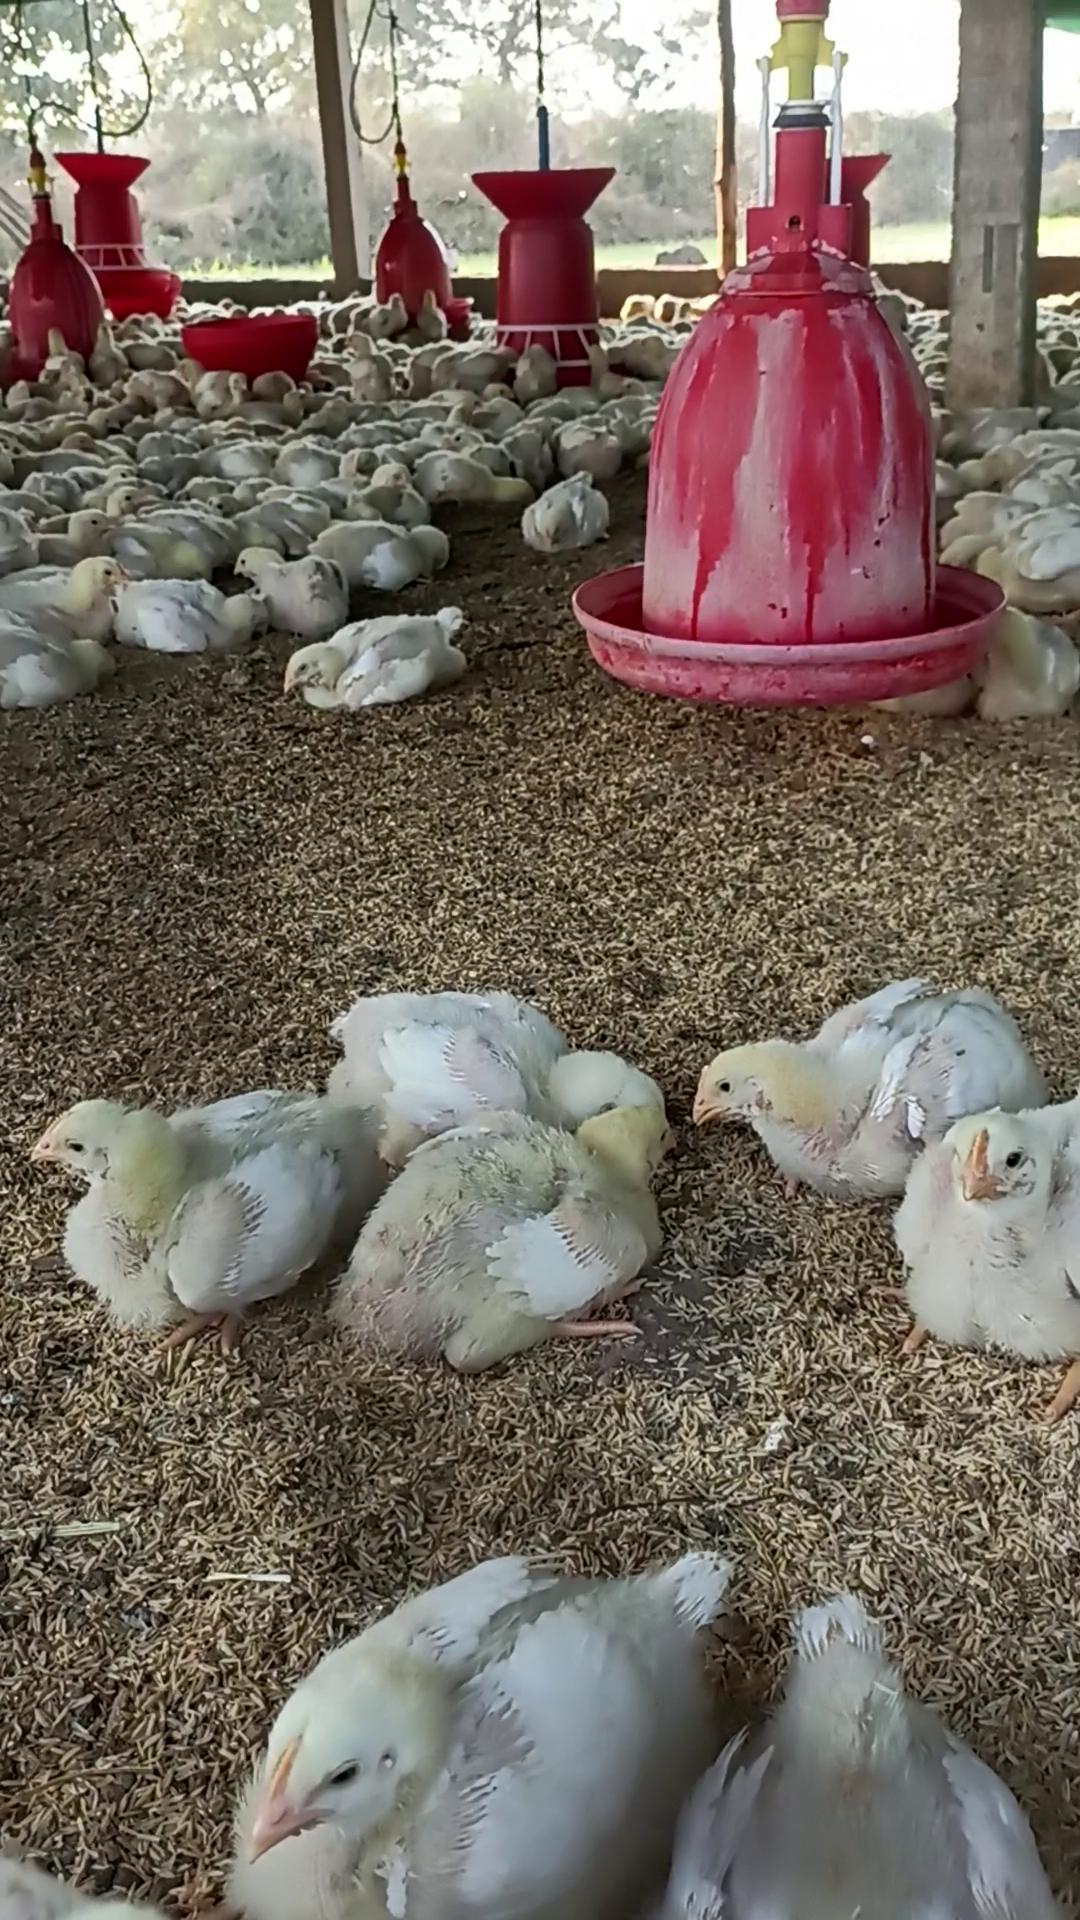Pollos: (225, 1513, 690, 1920), (351, 1092, 683, 1352), (28, 1079, 344, 1305), (680, 973, 1040, 1151), (903, 1092, 1080, 1331), (287, 605, 483, 723), (0, 553, 123, 662), (119, 578, 253, 655), (241, 541, 351, 632), (524, 480, 603, 555)
